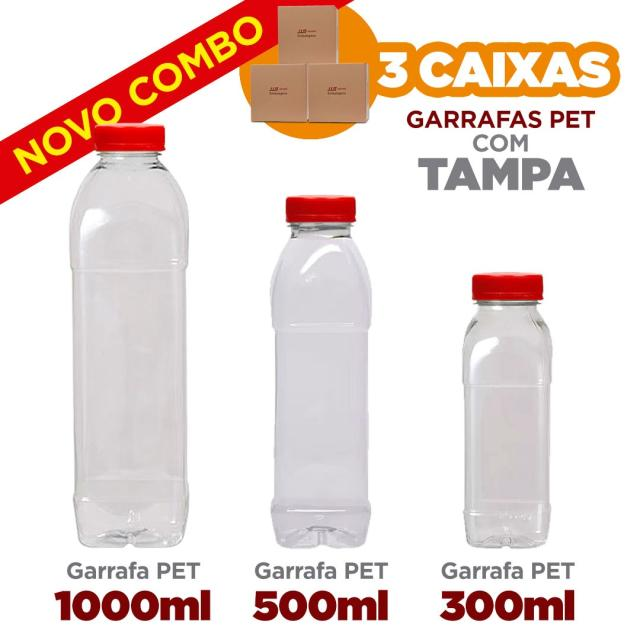bottom: (66, 494, 200, 553), (257, 503, 378, 553), (460, 507, 557, 551)
cap: (277, 189, 368, 236), (78, 121, 181, 161), (470, 268, 553, 309)
